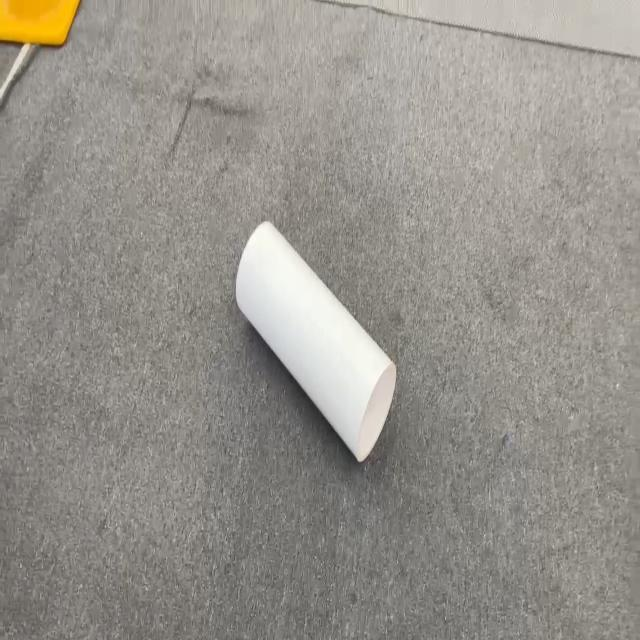coral: (235, 219, 397, 463)
